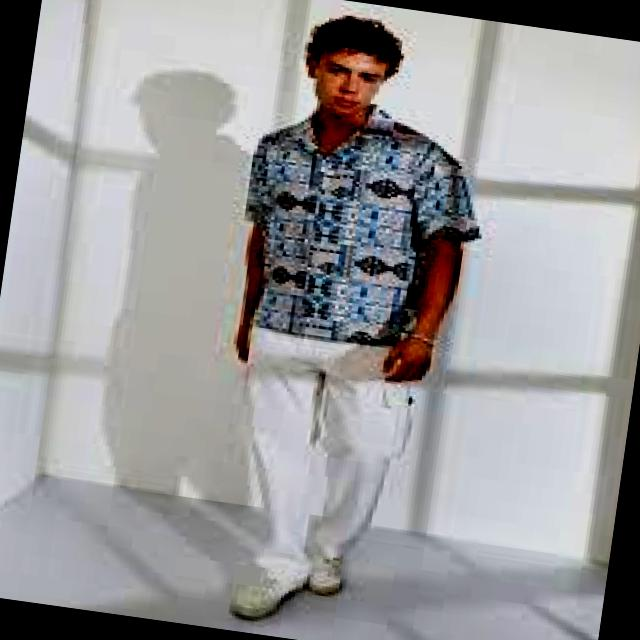face: (305, 48, 387, 121)
foot-wear: (229, 574, 305, 619), (306, 557, 343, 596)
lower-wear: (245, 328, 412, 582)
top-wear: (228, 103, 490, 357)
